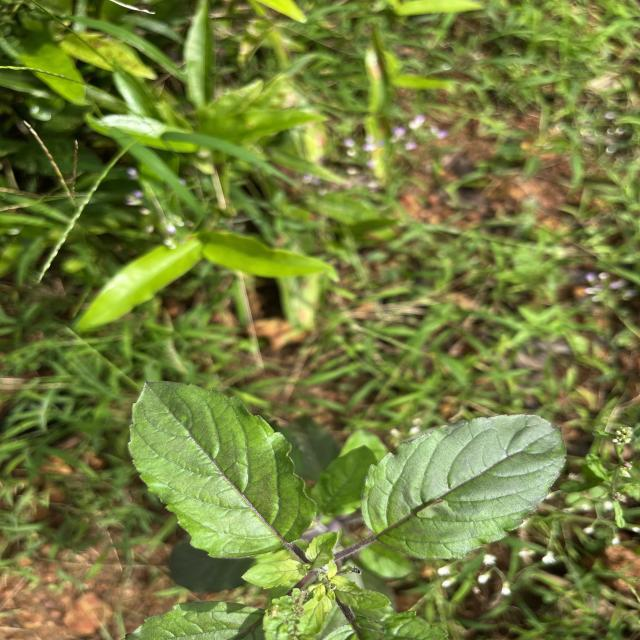Ocimum tenuiflorum: (126, 379, 320, 560), (359, 414, 570, 562)
